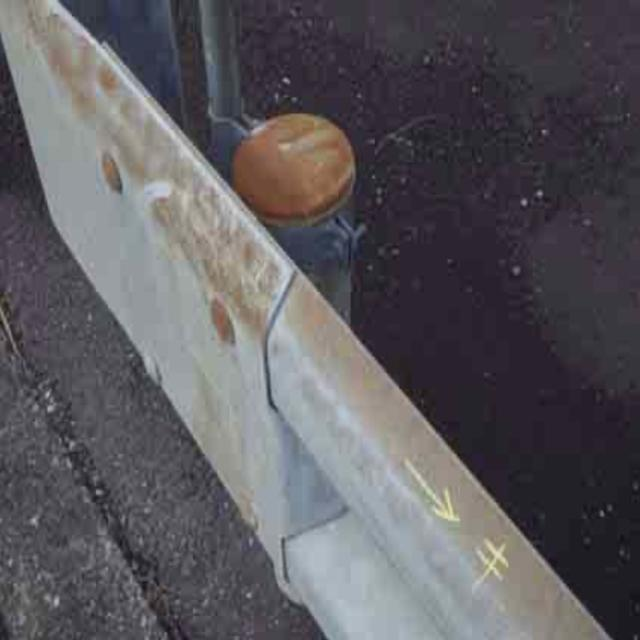corrosion: (148, 90, 352, 361)
